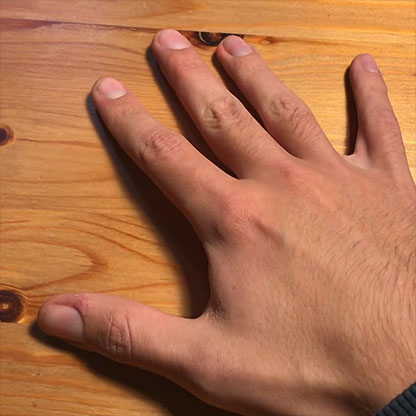fingertip: (25, 289, 92, 351), (80, 65, 136, 116), (144, 22, 202, 70), (214, 32, 265, 70), (351, 48, 394, 84)
